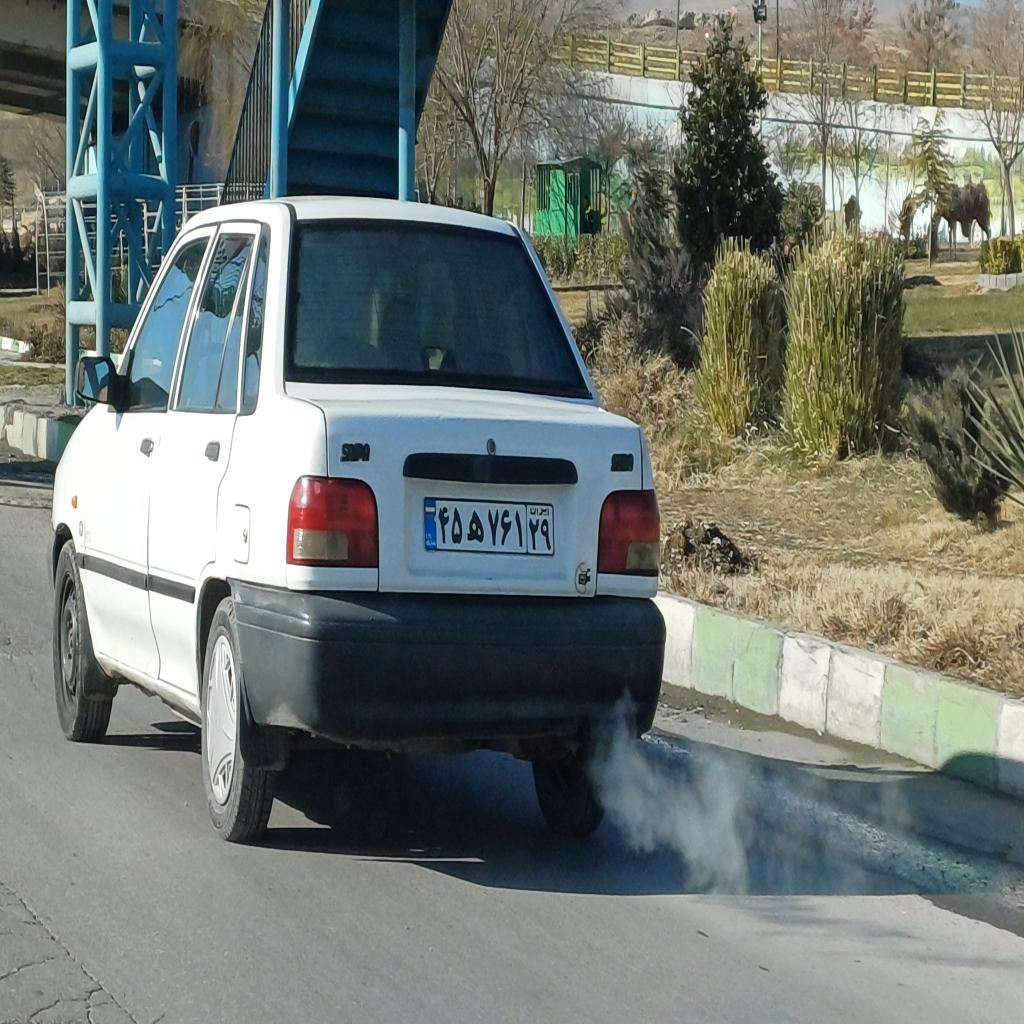Plates: (424, 494, 554, 559)
